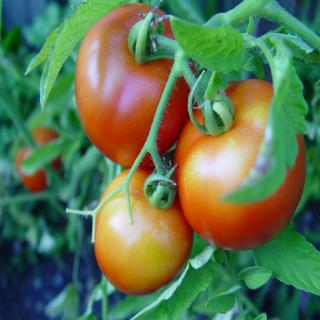tomato: (169, 60, 308, 252), (76, 2, 196, 167), (94, 168, 194, 293), (16, 124, 60, 190)
